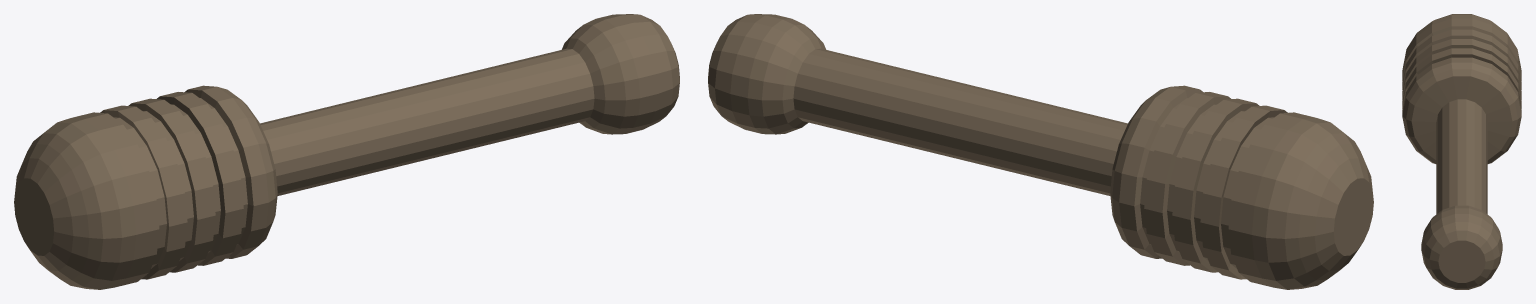
The model's file is HoneySpoon.fbx.
The picture shows the model from 3 angles, left to right: view 1: azimuth 30°, elevation 25°; view 2: azimuth 150°, elevation 25°; view 3: azimuth 270°, elevation 25°; orthographic projection. The views are drawn at different scales.
Visible parts, largest first — view 1: Cylinder.025; view 2: Cylinder.025; view 3: Cylinder.025.
Boxes of the visible parts, x1,y1,x2,y2 form: Cylinder.025: (14, 14, 679, 289); Cylinder.025: (708, 14, 1373, 289); Cylinder.025: (1402, 14, 1521, 289).
Bounding box in the file's own units: 12.4 × 2.95 × 2.99.
